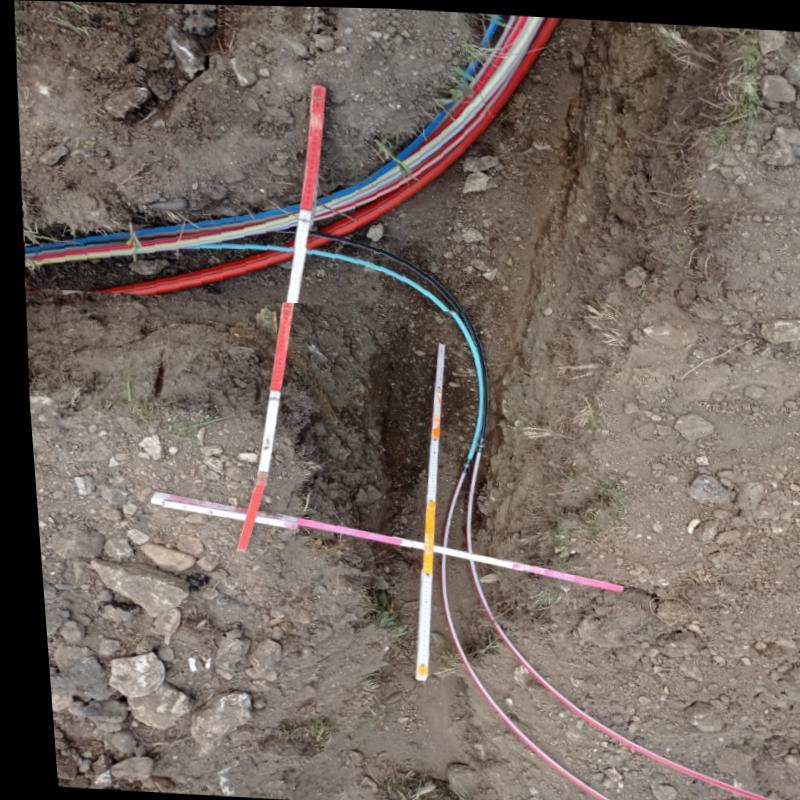Orang-Speednetrohrchen: (20, 14, 560, 293)
